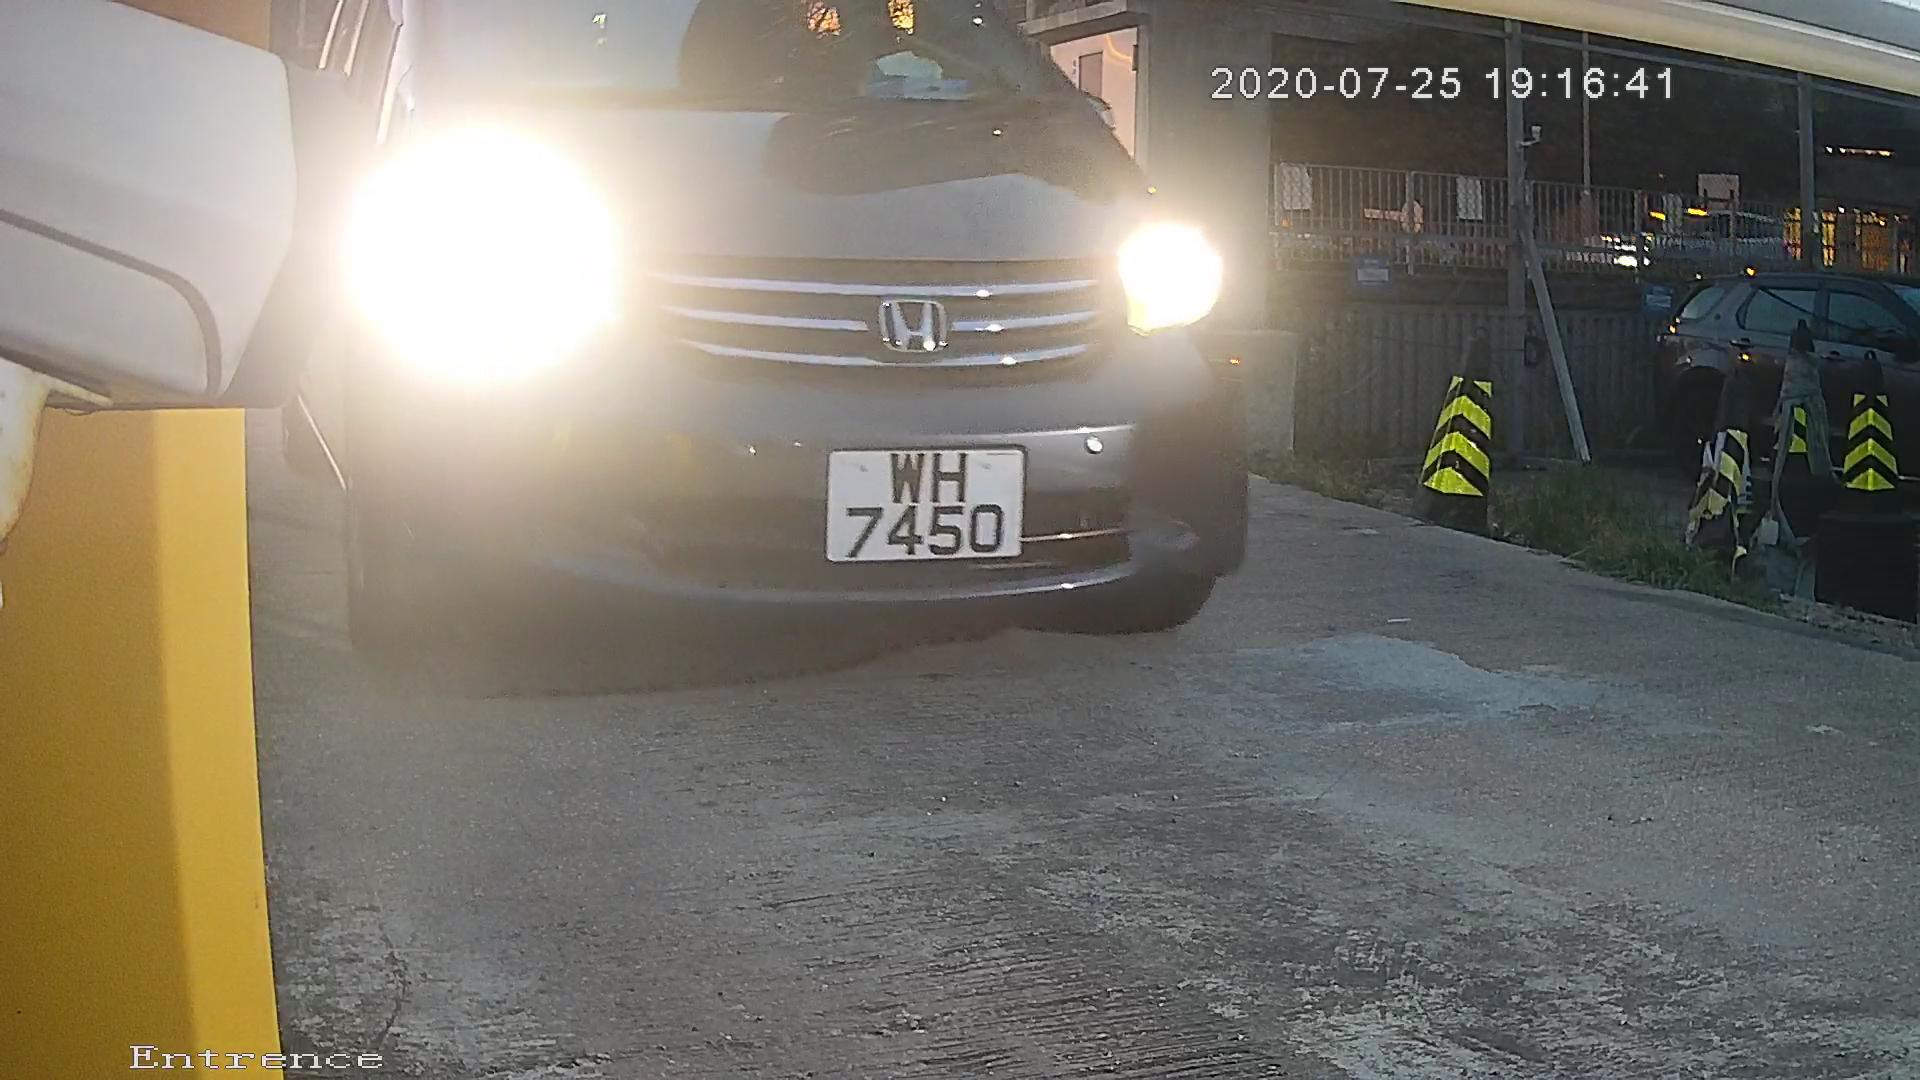License Plate: (789, 434, 1063, 574)
